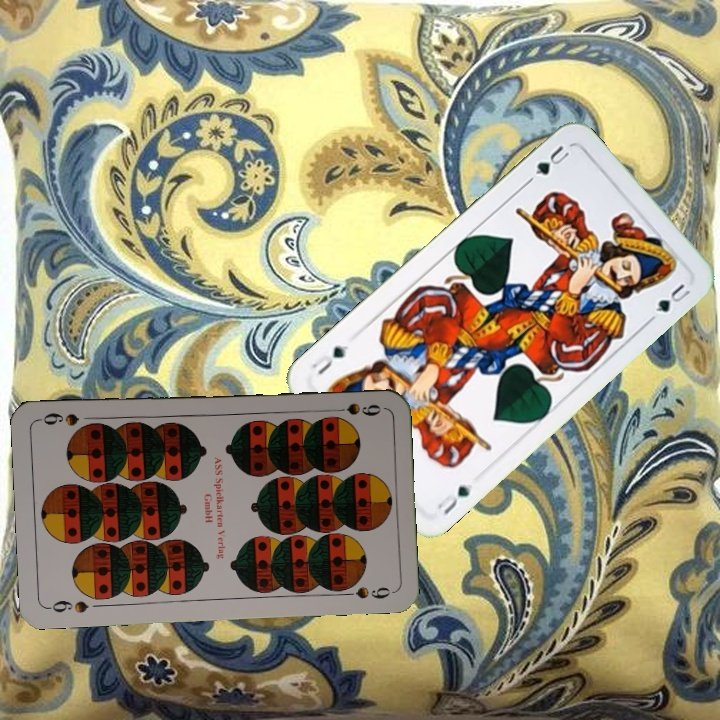GU: (433, 479, 475, 518), (531, 141, 572, 178)
S9: (325, 399, 383, 418), (44, 596, 91, 616)
